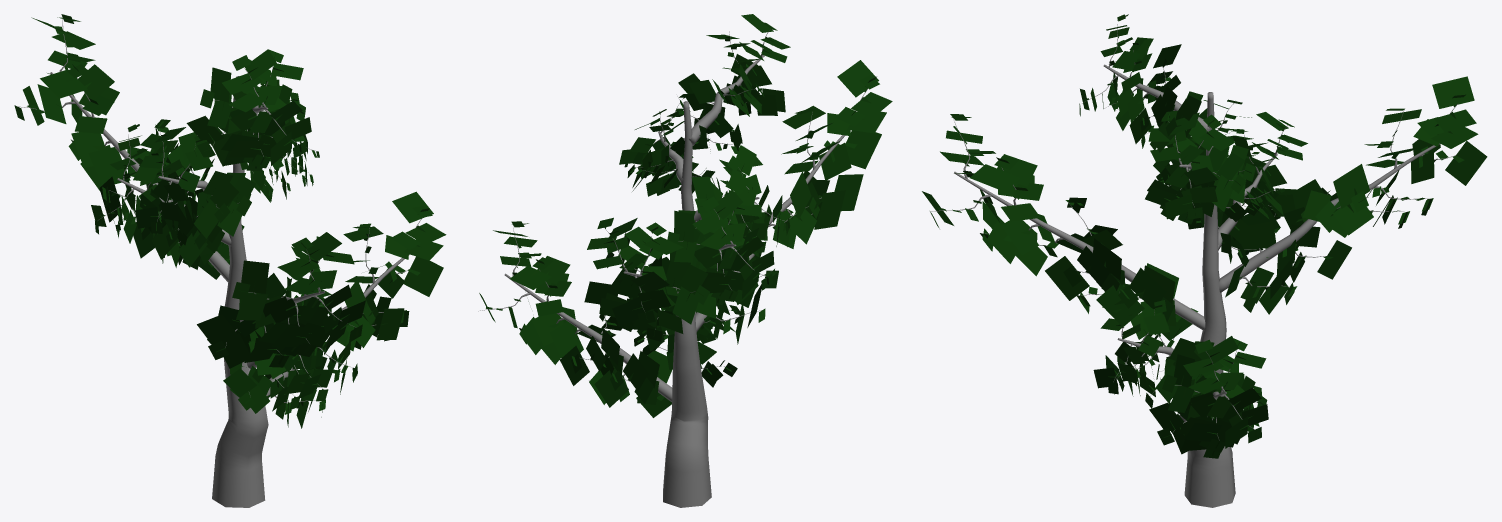
Rendered from Tree A.obj.
3 views of the same model, side by side, from view 1: azimuth 30°, elevation 25°; view 2: azimuth 150°, elevation 25°; view 3: azimuth 270°, elevation 25° (orthographic). The views are drawn at different scales.
Parts seen in each view (by area): view 1: Leaves_1 Tree_10541409_subnet11_0, Tree_10541409_subnet11_0 Trunk1; view 2: Leaves_1 Tree_10541409_subnet11_0, Tree_10541409_subnet11_0 Trunk1; view 3: Leaves_1 Tree_10541409_subnet11_0, Tree_10541409_subnet11_0 Trunk1.
Boxes of the visible parts, x1,y1,x2,y2 form: Leaves_1 Tree_10541409_subnet11_0: (14, 14, 446, 428); Tree_10541409_subnet11_0 Trunk1: (18, 19, 422, 507); Leaves_1 Tree_10541409_subnet11_0: (479, 14, 892, 417); Tree_10541409_subnet11_0 Trunk1: (478, 29, 867, 507); Leaves_1 Tree_10541409_subnet11_0: (922, 14, 1487, 458); Tree_10541409_subnet11_0 Trunk1: (931, 20, 1458, 507).
Bounding box in the file's own units: 3.28 × 4.61 × 5.08.
